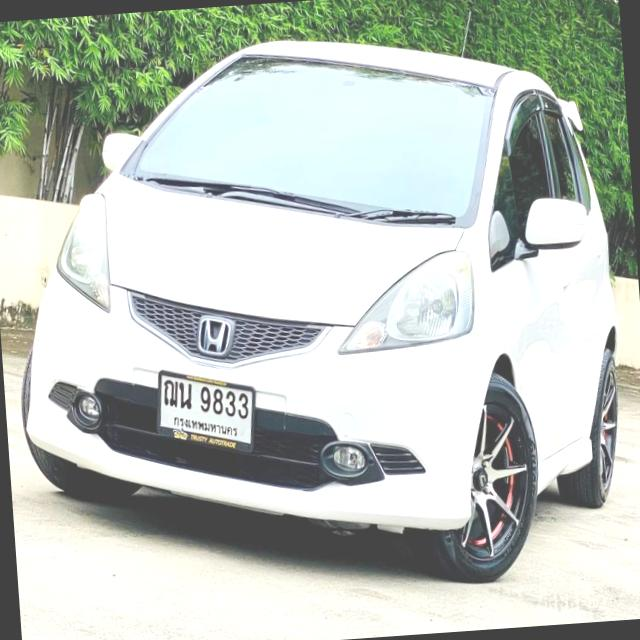license_plate: (150, 358, 261, 464)
